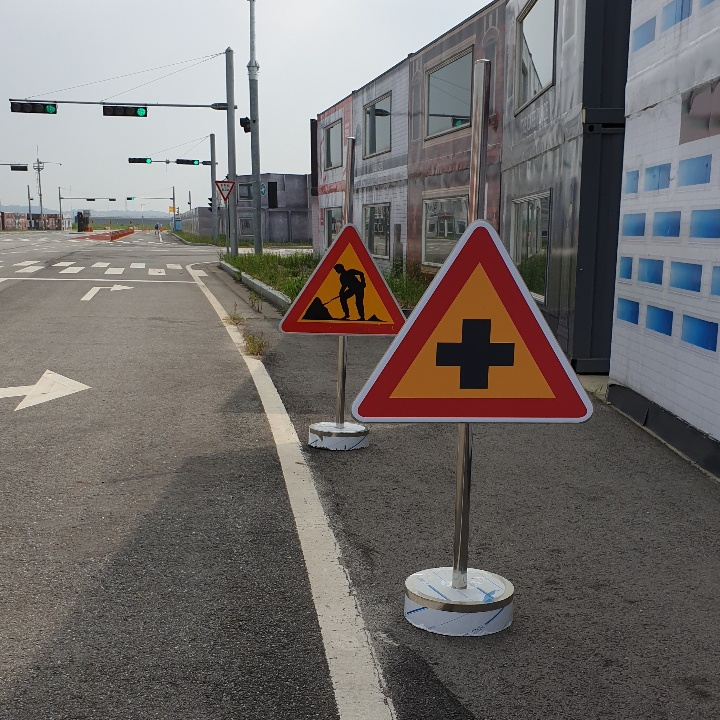const: (298, 253, 390, 324)
inter: (429, 312, 521, 395)
